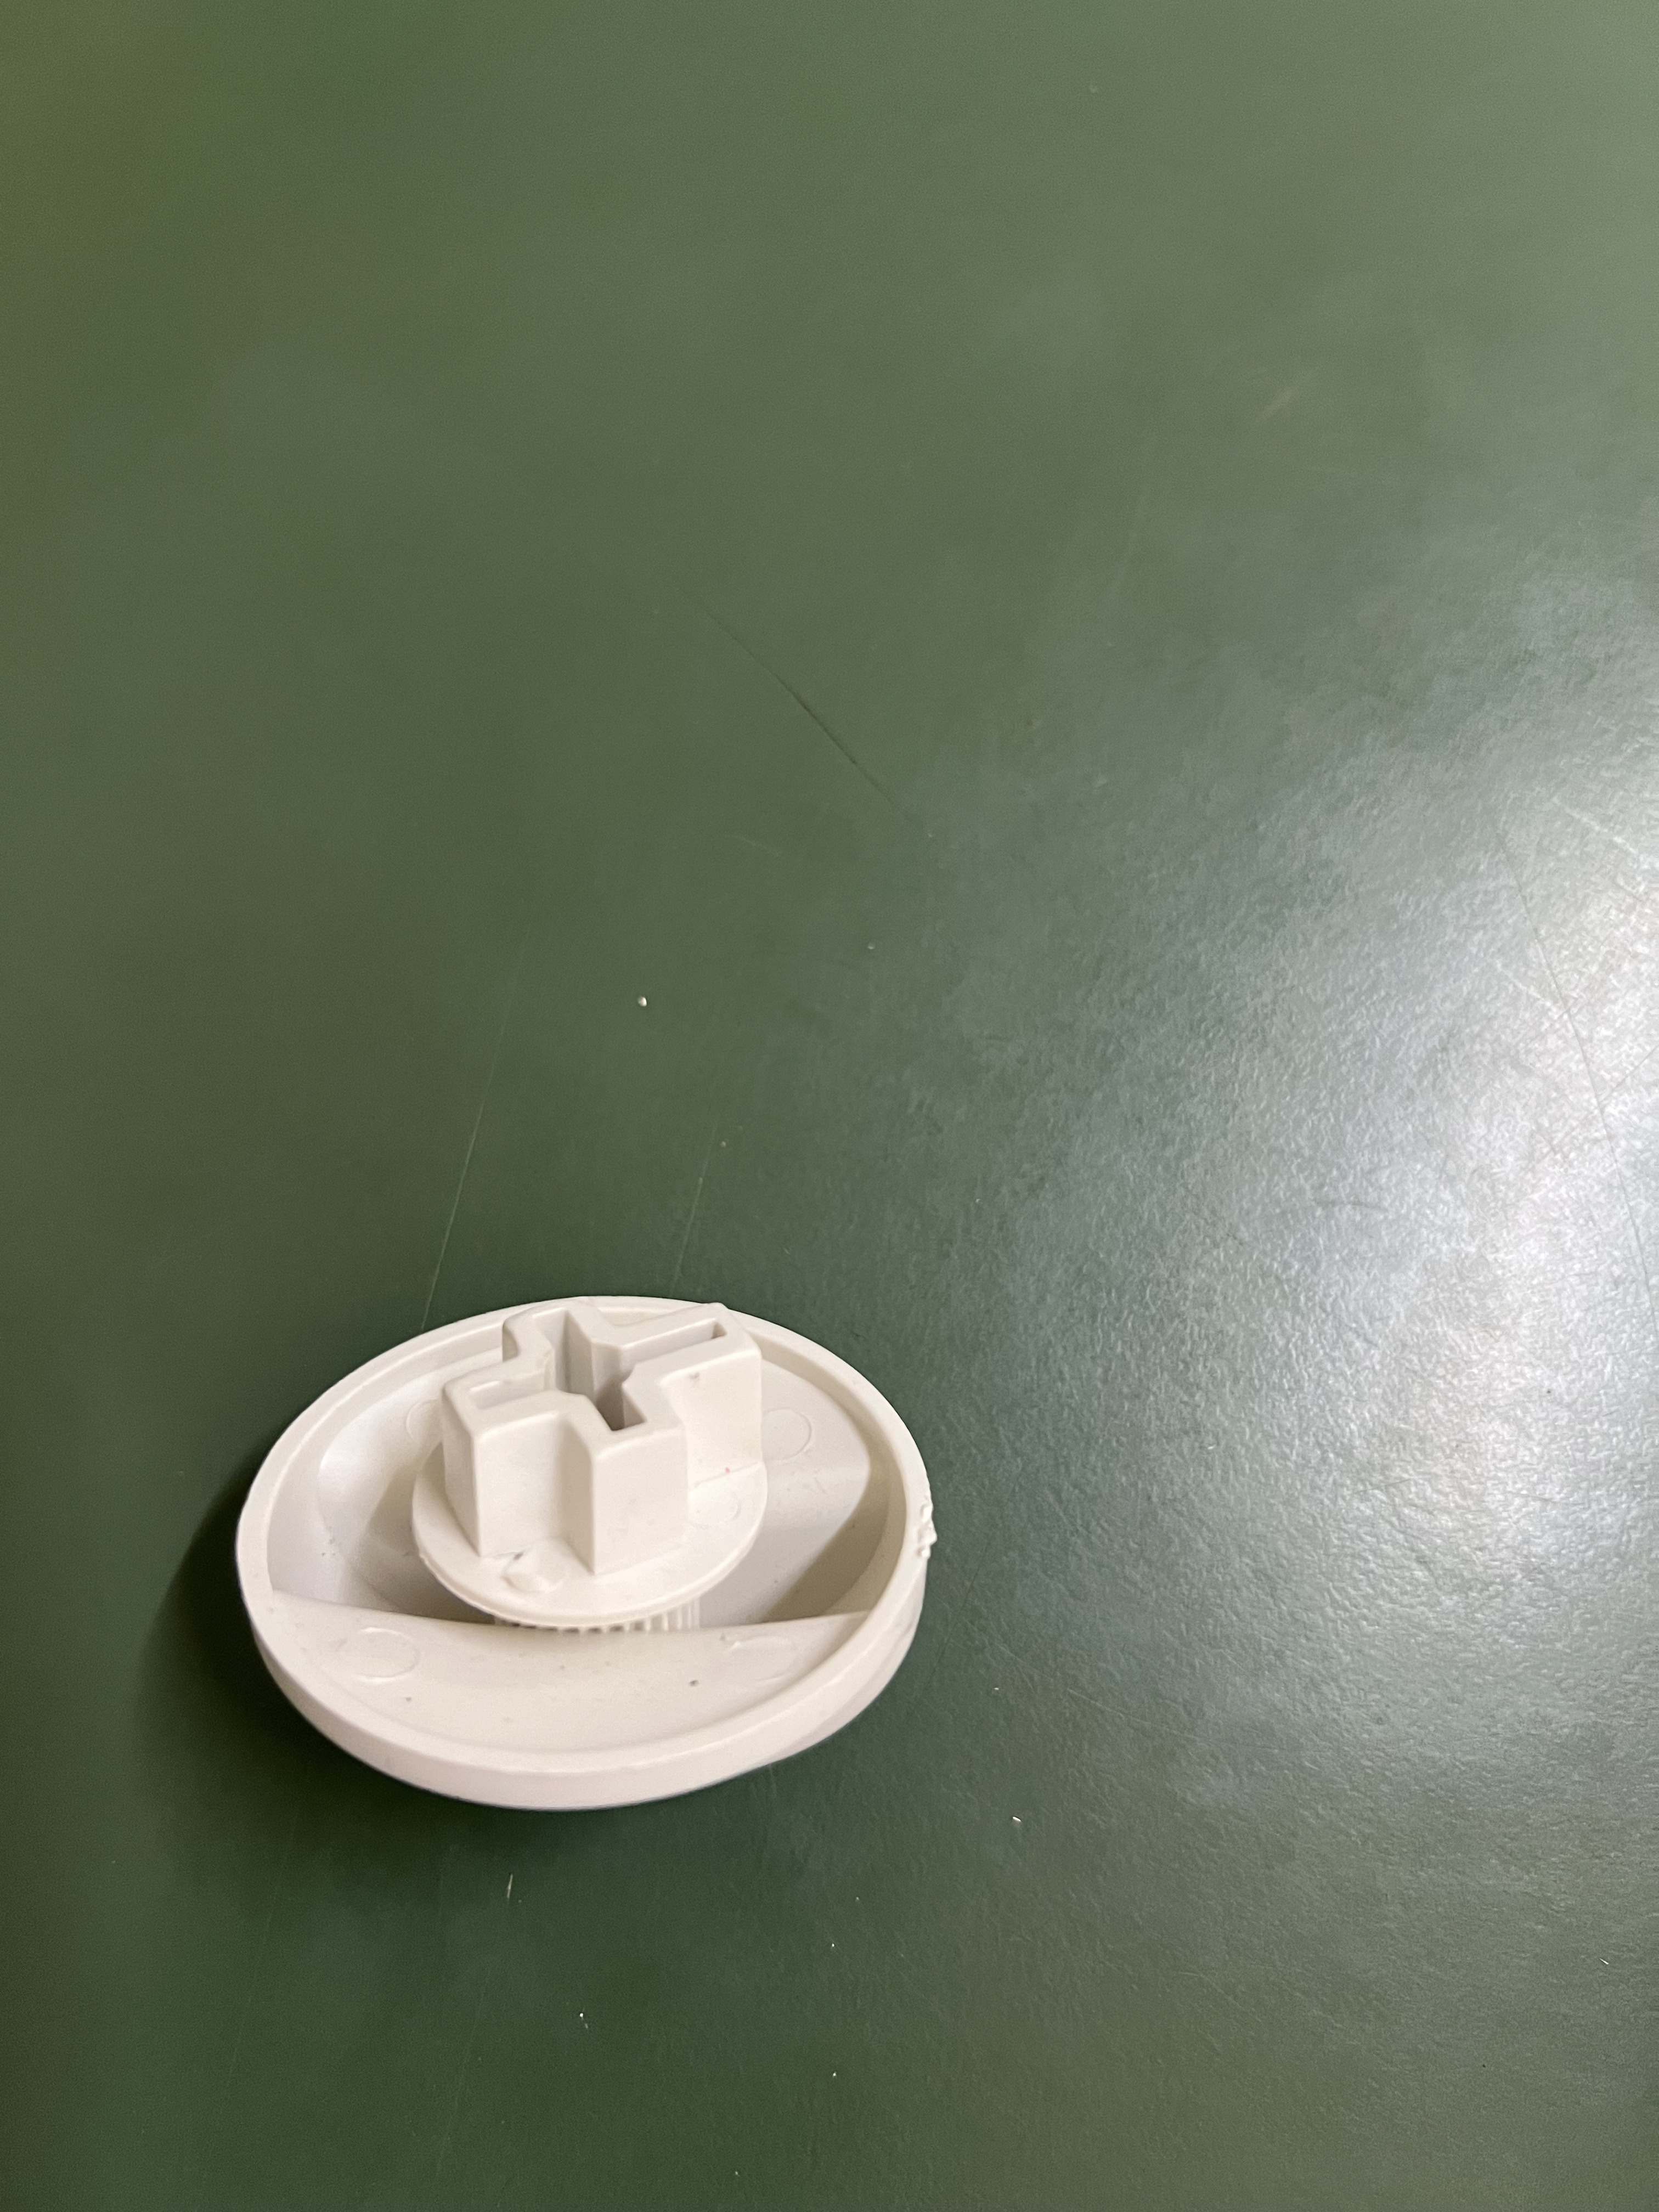regulator: (234, 1270, 943, 1797)
